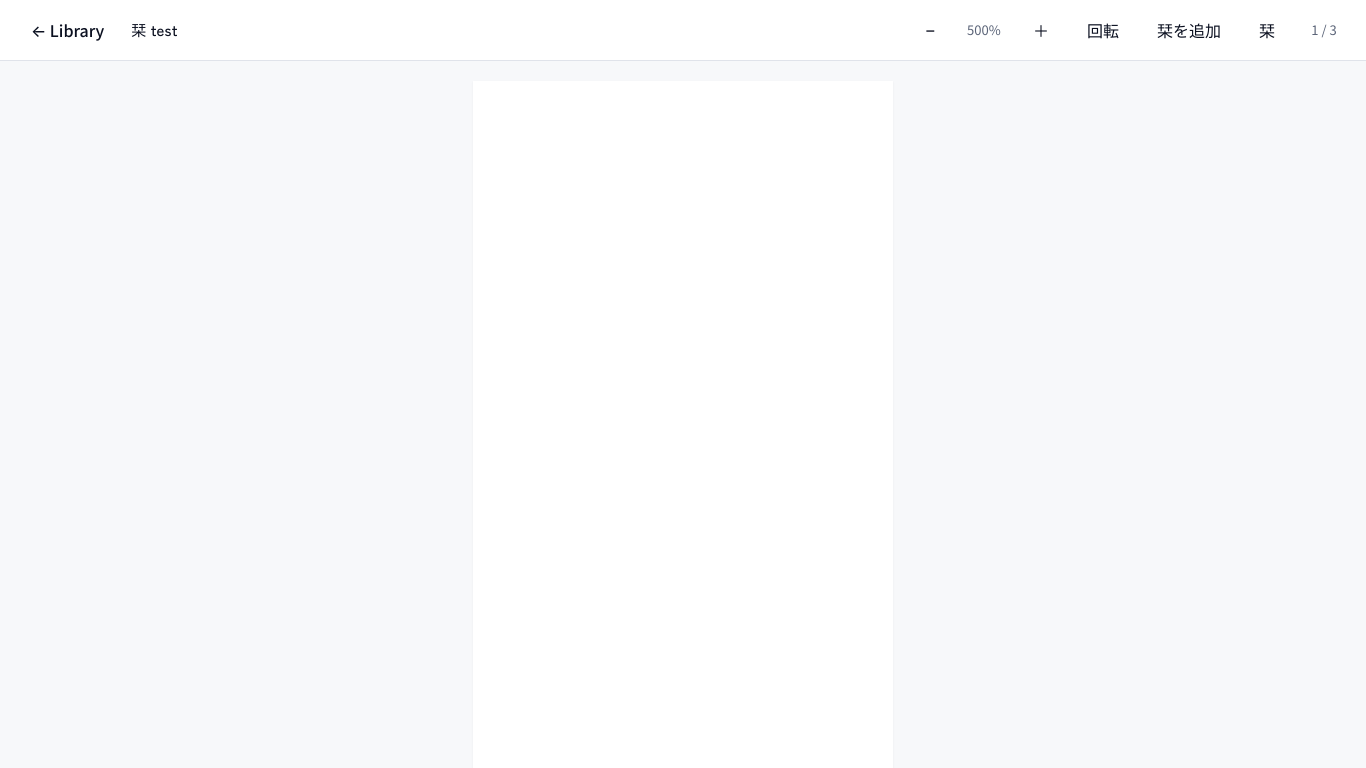
Test: the bookmarks panel › says so when there is nothing marked yet
The image size is (1366, 768).
Click the button with test id "rm-toggle-bookmarks" at {"x": 1267, "y": 30}, box [1244, 10, 1290, 50]
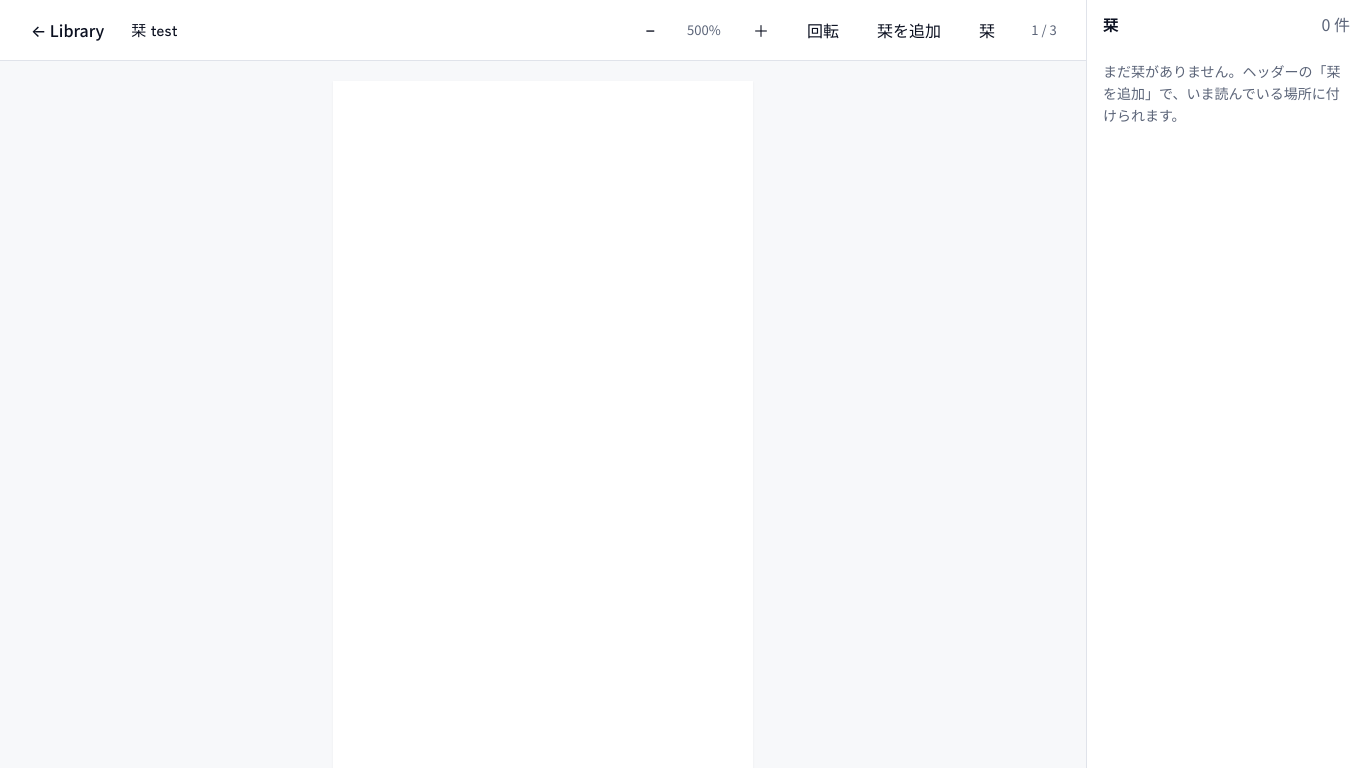
Now the text "まだ栞がありません。ヘッダーの「栞を追加」で、いま読んでいる場所に付けられます。" is shown, box [1095, 60, 1358, 127]
